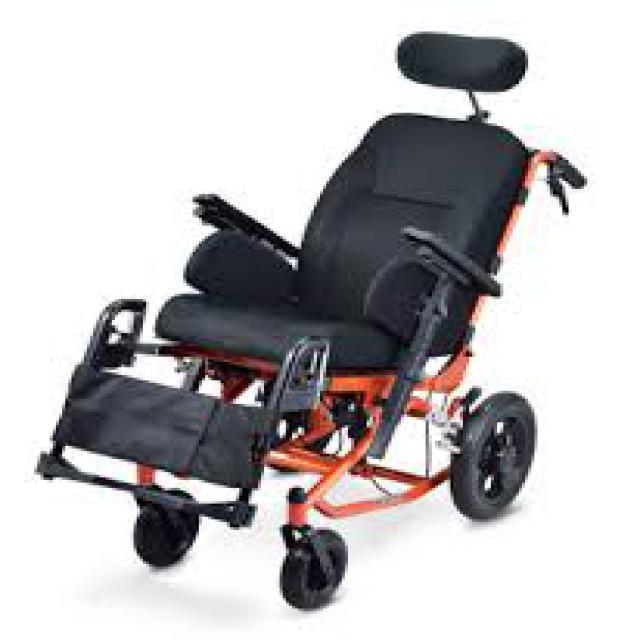wheelchairs: (27, 27, 595, 609)
